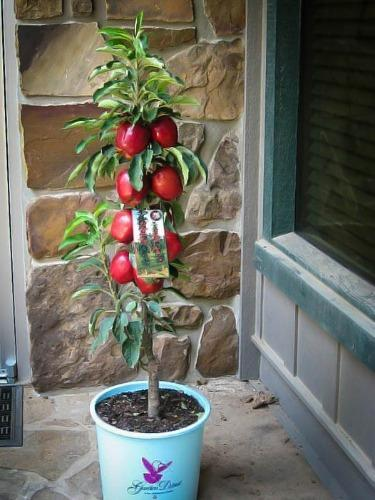apple: (115, 120, 150, 158), (115, 170, 148, 206), (152, 169, 184, 201), (110, 208, 134, 243), (153, 114, 177, 149), (110, 248, 134, 283), (161, 230, 182, 263)
